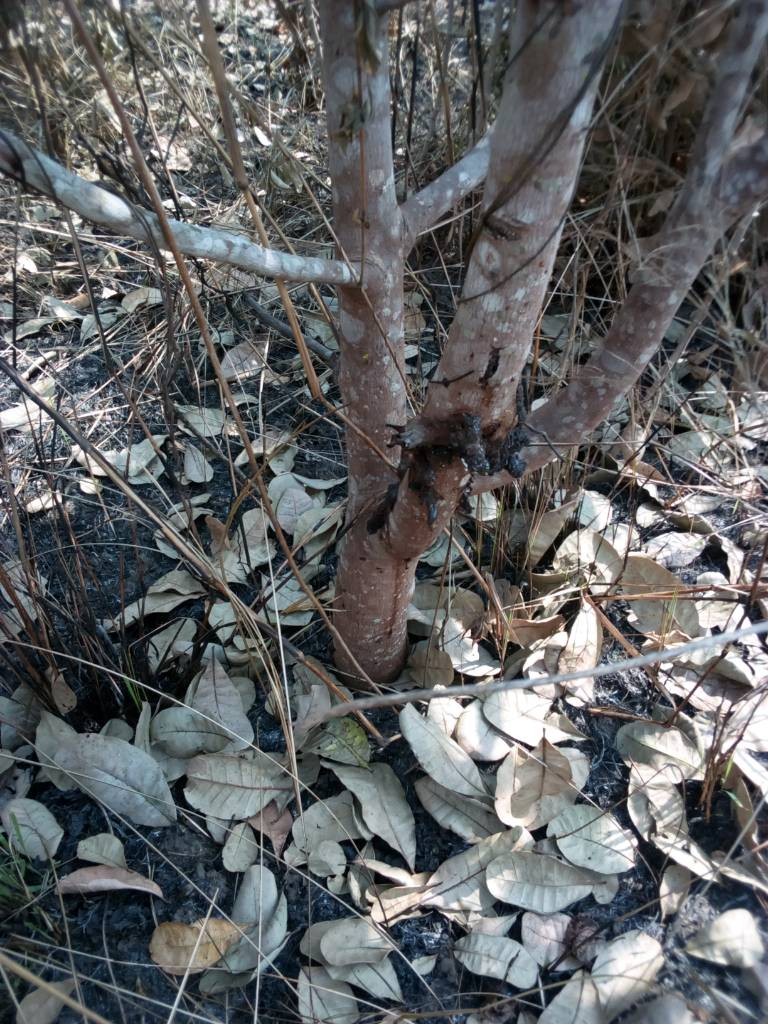Gommose: (383, 405, 535, 519)
